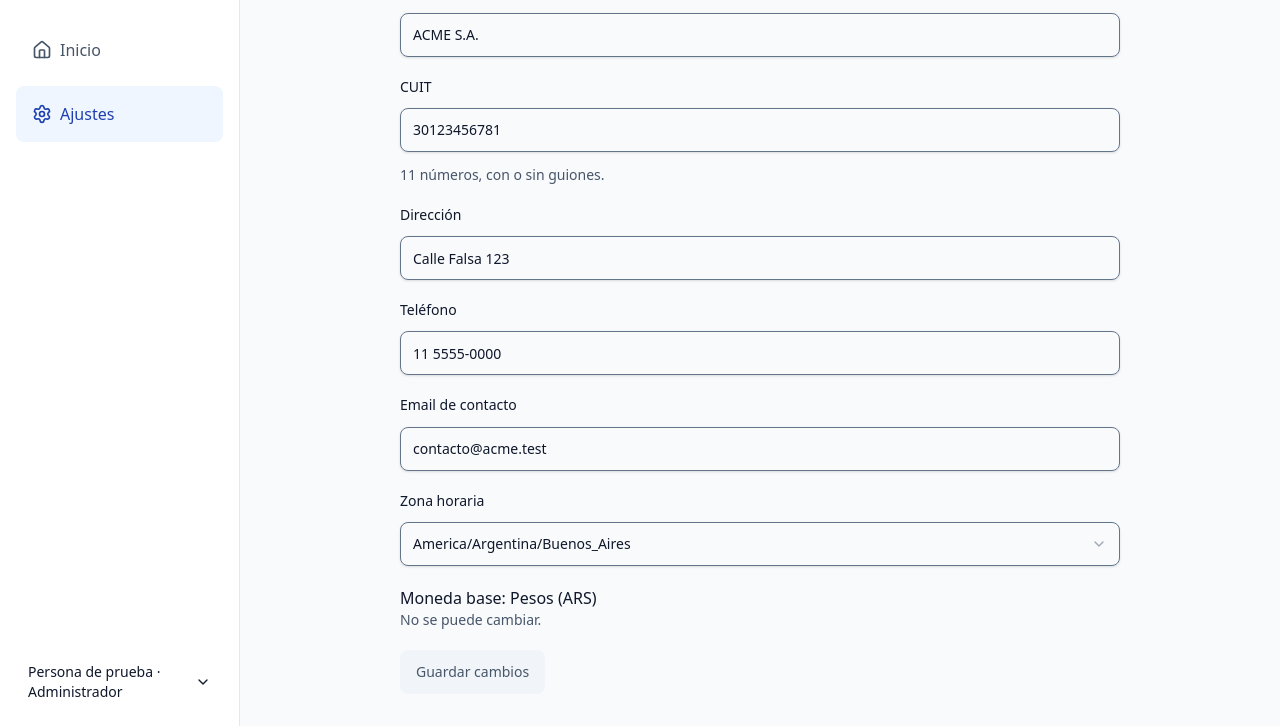
Scenario: company changes are ordered › does not let a read in flight overwrite the PATCH response
(page scrolled)
Type "1" into the field labelled "Teléfono" at (760, 353), box [400,331,1120,375]
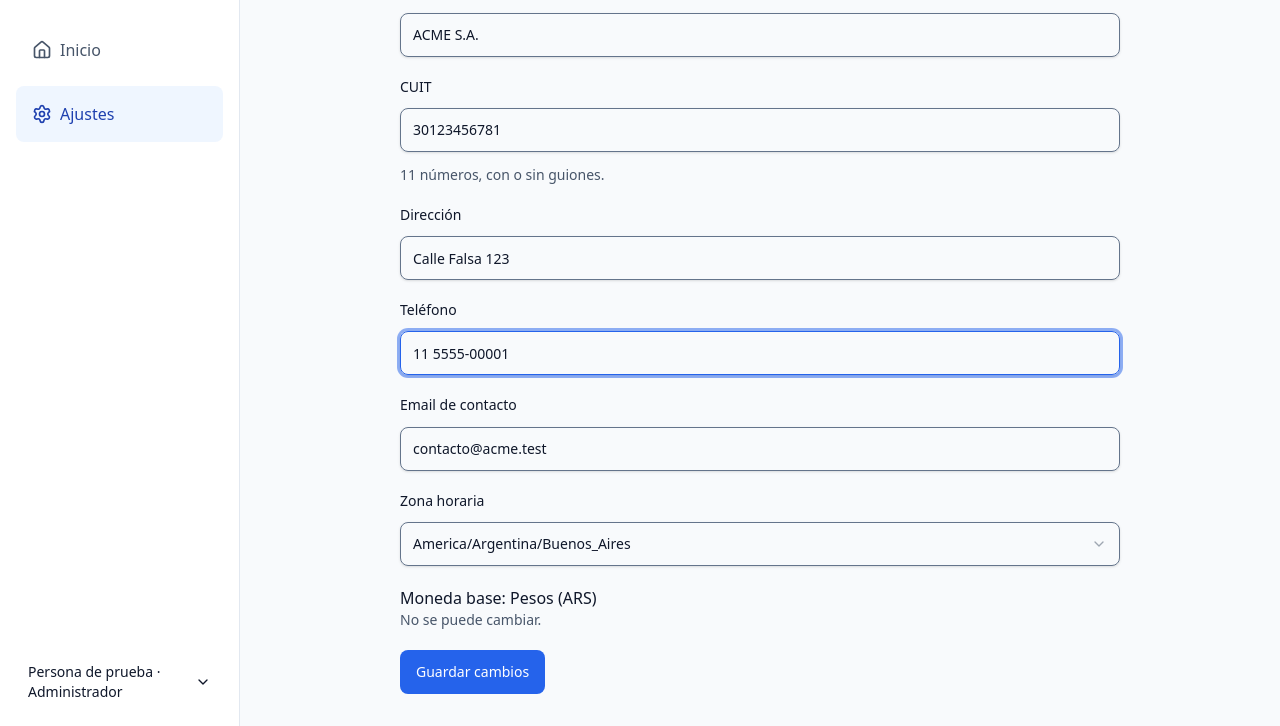
Click the button "Guardar cambios" at (473, 672), box [400,650,545,694]
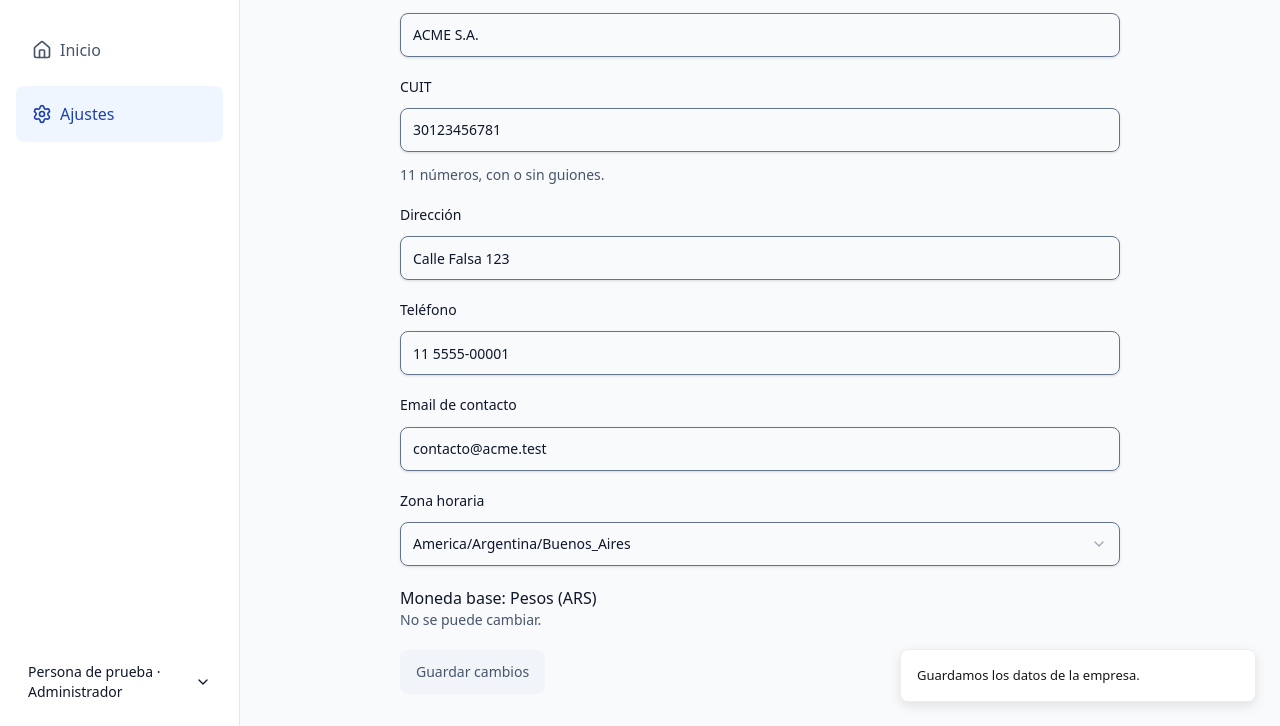
Expected: the field labelled "Teléfono" holds "11 5555-00001", [400,331,1120,375]
Expected: the text "Guardamos los datos de la empresa." is shown, [917,666,1140,685]
